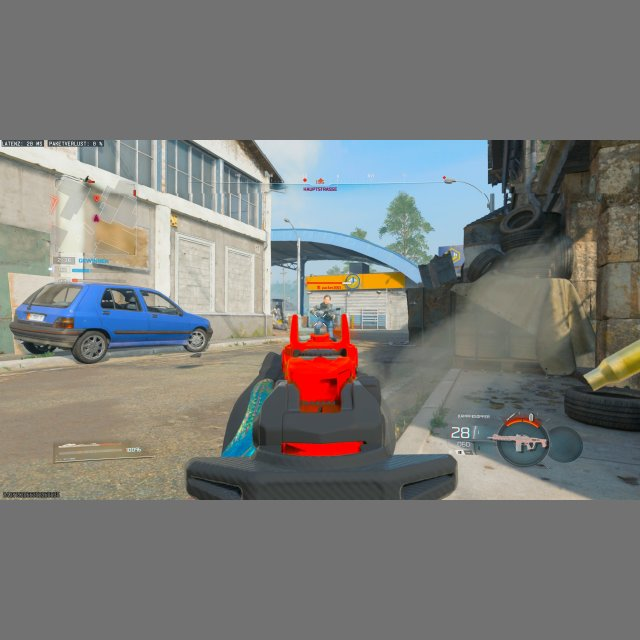head: (322, 295, 331, 305)
player: (310, 298, 335, 336)
